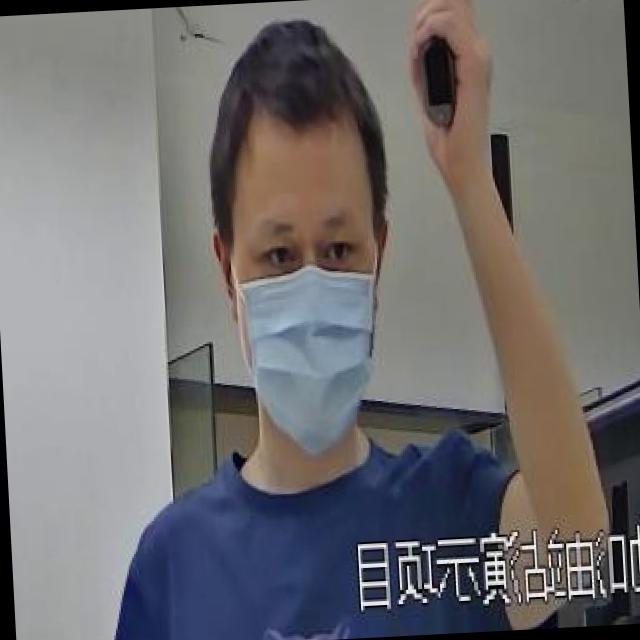Guns: (373, 0, 504, 162)
